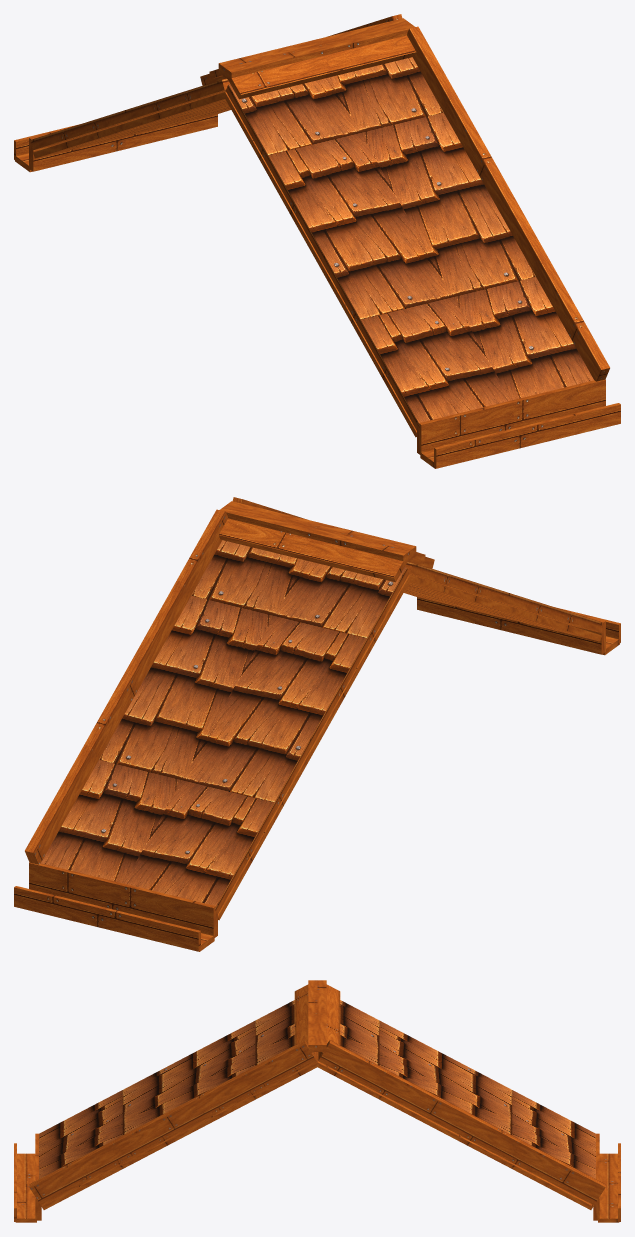
The model's file is Roof3_SectionEdgeR_1m.fbx.
The picture shows the model from 3 angles, top to bottom: view 1: azimuth 30°, elevation 25°; view 2: azimuth 150°, elevation 25°; view 3: azimuth 270°, elevation 25°; orthographic projection. The views are drawn at different scales.
Visible parts, largest first — view 1: Roof3_SectionEdgeR_1m; view 2: Roof3_SectionEdgeR_1m; view 3: Roof3_SectionEdgeR_1m.
Part boxes in pixels (x1=…): Roof3_SectionEdgeR_1m: x1=14, y1=14, x2=620, y2=468; Roof3_SectionEdgeR_1m: x1=14, y1=497, x2=620, y2=951; Roof3_SectionEdgeR_1m: x1=14, y1=980, x2=620, y2=1222.
Size of the model in its own units: 1 by 1.29 by 3.96.
